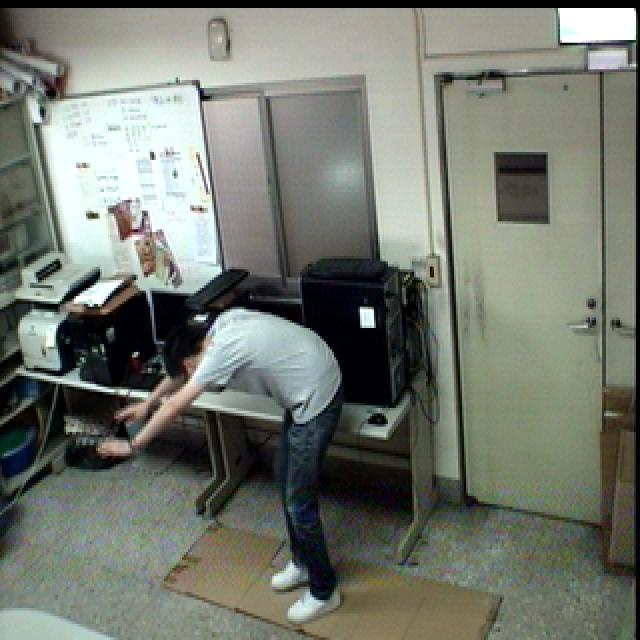bend: (95, 306, 360, 627)
